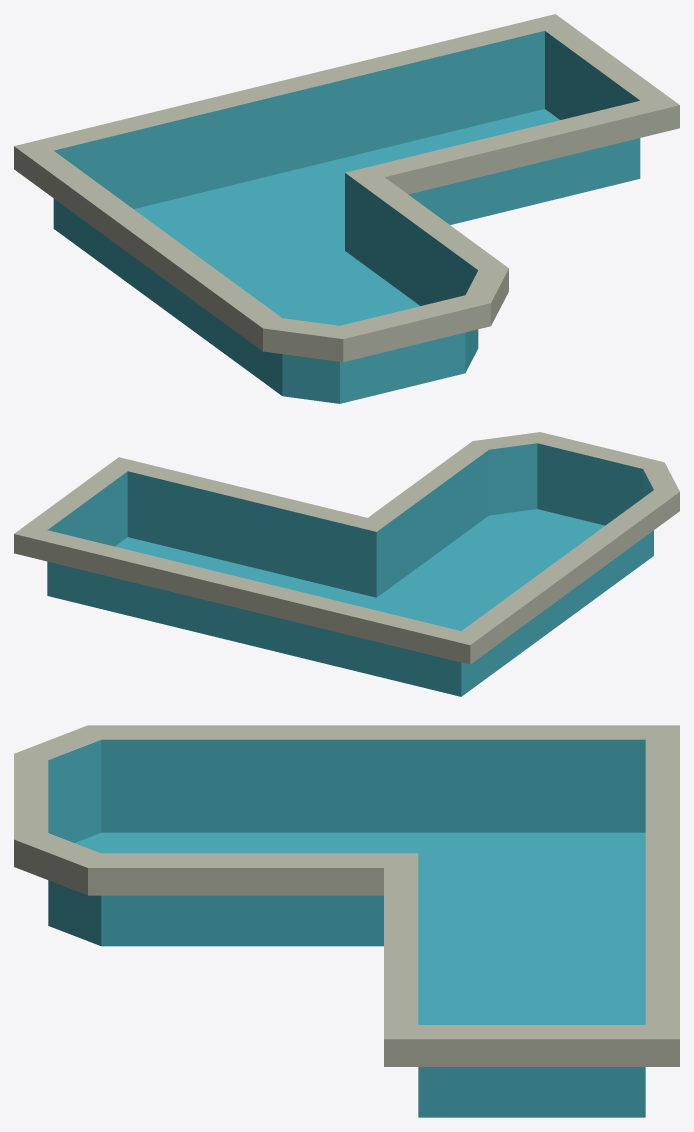
File: Pool_Grey_vc.fbx
3 views of the same model, one above another, from view 1: azimuth 30°, elevation 25°; view 2: azimuth 150°, elevation 25°; view 3: azimuth 270°, elevation 25° (orthographic). The views are drawn at different scales.
Parts seen in each view (by area): view 1: Pool_Grey_vc; view 2: Pool_Grey_vc; view 3: Pool_Grey_vc.
Part boxes in pixels (x1,y1,x2,y2): Pool_Grey_vc: (14,14,679,403); Pool_Grey_vc: (14,432,679,696); Pool_Grey_vc: (14,725,679,1117).
Bounding box in the file's own units: 2115 × 292 × 1895.
